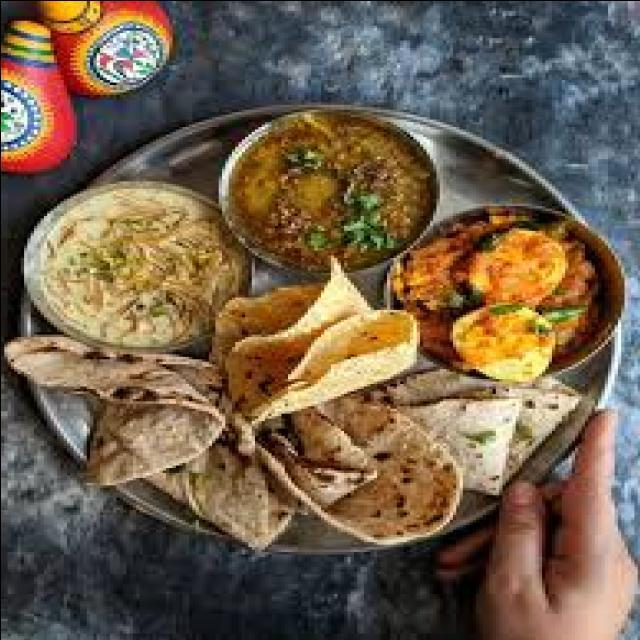papad: (191, 276, 424, 426), (0, 325, 233, 423)
veg-fry: (211, 96, 447, 280), (395, 197, 622, 382)
